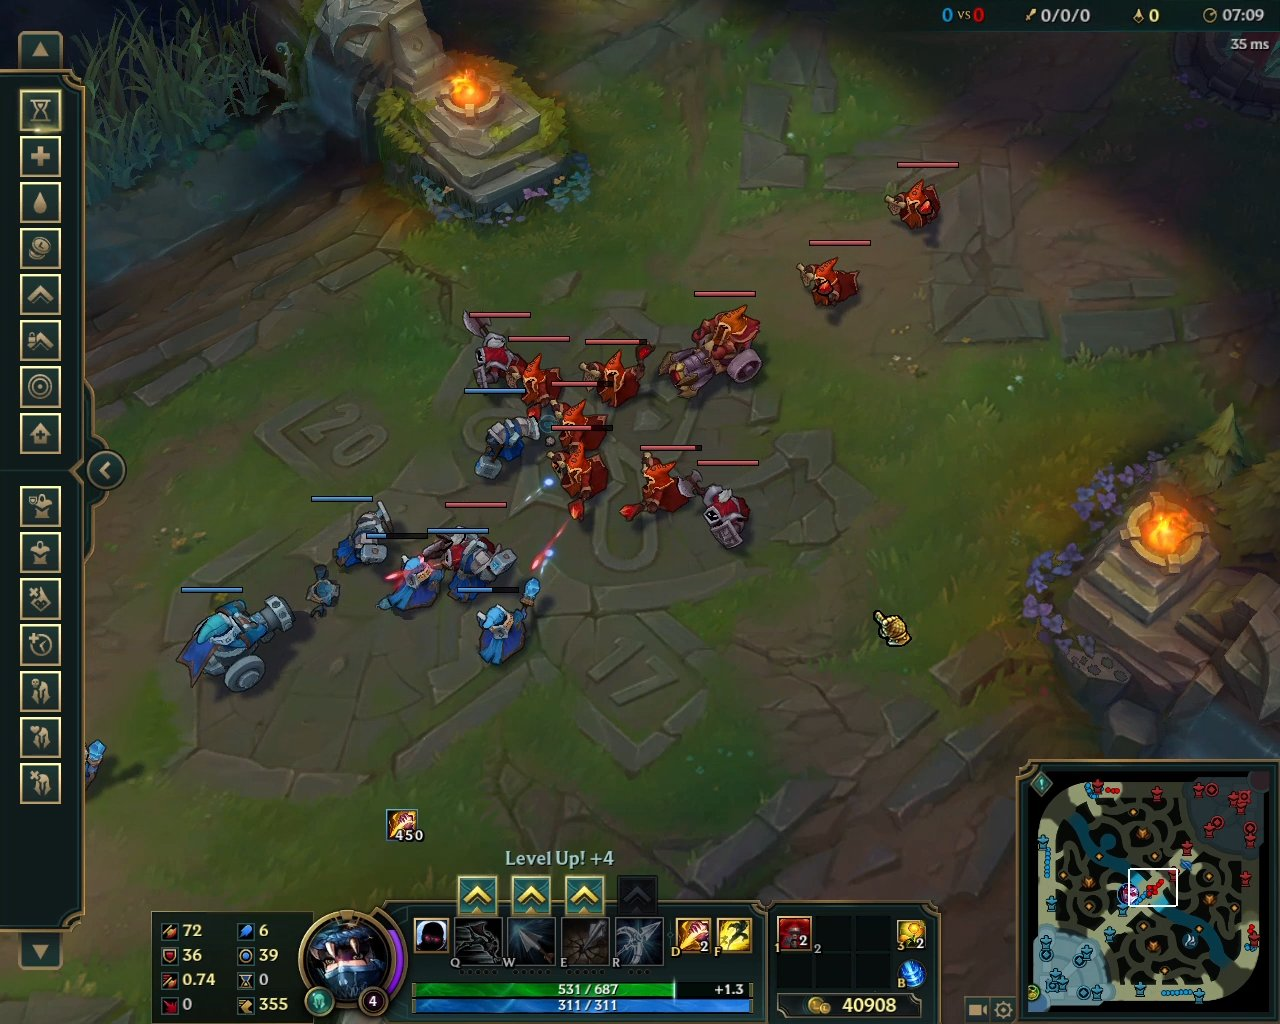EnemyMinion: (652, 289, 764, 411), (674, 459, 761, 552), (538, 424, 615, 526), (616, 444, 702, 523), (452, 311, 529, 395), (791, 239, 872, 313), (506, 334, 569, 426), (880, 162, 960, 232), (579, 338, 654, 412), (548, 380, 616, 453)
